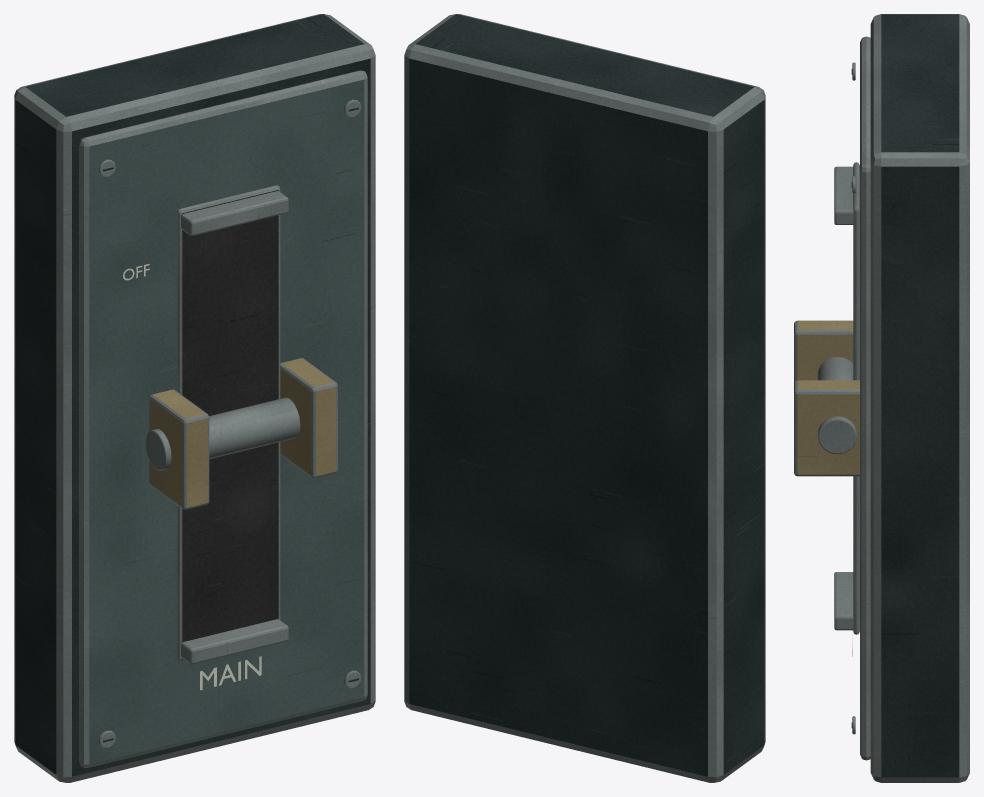
Rendered from MAIN_Housing.fbx.
3 views of the same model, side by side, from view 1: azimuth 30°, elevation 25°; view 2: azimuth 150°, elevation 25°; view 3: azimuth 270°, elevation 25° (orthographic). The views are drawn at different scales.
Visible parts, largest first — view 1: MAIN_Housing__Visual; view 2: MAIN_Housing__Visual; view 3: MAIN_Housing__Visual.
Boxes of the visible parts, x1,y1,x2,y2 form: MAIN_Housing__Visual: (14,14,375,782); MAIN_Housing__Visual: (404,14,765,782); MAIN_Housing__Visual: (794,14,969,782).
Bounding box in the file's own units: 0.42 × 0.84 × 0.2125.
